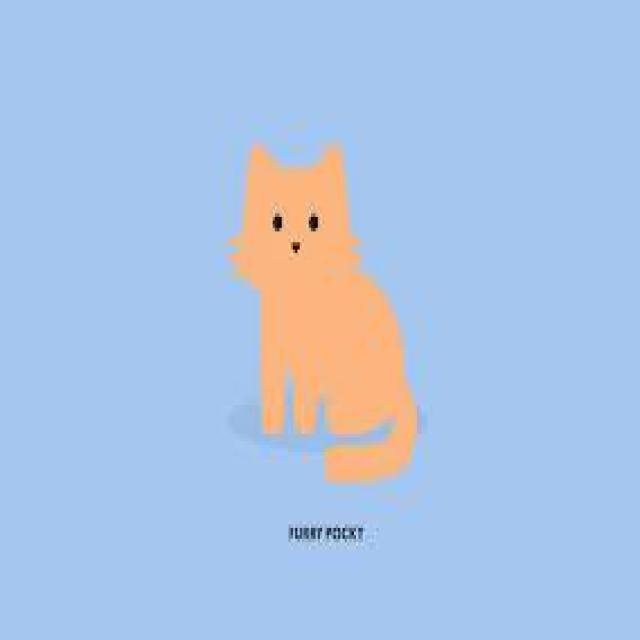cat: (224, 115, 443, 488)
